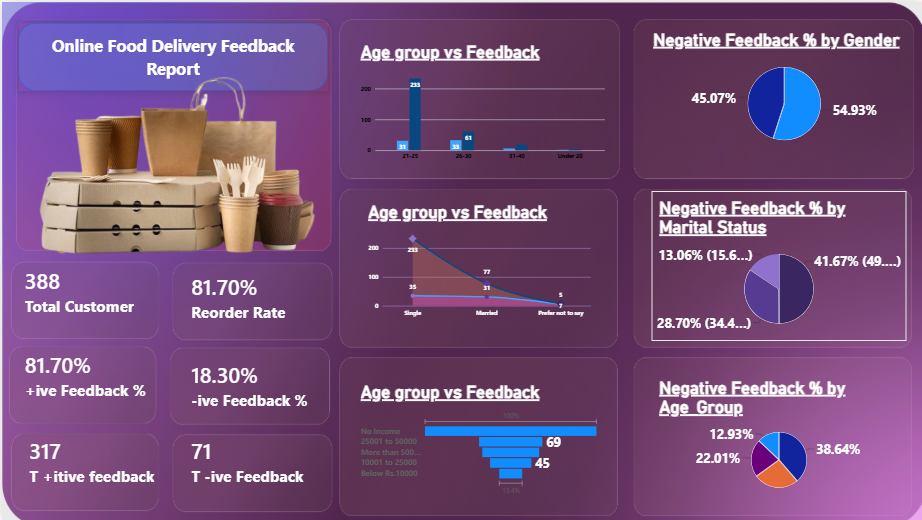

Layout of this report page (visuals, bound fields, positions):
{"tool":"powerbi","page":{"name":"Page 1","canvas":[1920,1080],"ordinal":0},"visuals":[{"type":"clusteredColumnChart","title":"Age group vs Feedback ","fields":{"Category":["corect online food delivery dataset.Age_Group"],"Series":["corect online food delivery dataset.Feedback"],"Y":["CountNonNull(corect online food delivery dataset.Age)"]},"box":[0,731.4,658.6,348.6],"z":0},{"type":"clusteredColumnChart","title":"Age group vs Feedback ","fields":{"Category":["corect online food delivery dataset.Marital Status"],"Series":["corect online food delivery dataset.Feedback"],"Y":["CountNonNull(corect online food delivery dataset.Feedback)"]},"box":[0,365.7,658.6,348.6],"z":1000},{"type":"clusteredColumnChart","title":"Age group vs Feedback ","fields":{"Category":["corect online food delivery dataset.Monthly Income"],"Series":["corect online food delivery dataset.Feedback"],"Y":["CountNonNull(corect online food delivery dataset.Feedback)"]},"box":[682.9,731.4,658.6,348.6],"z":2000},{"type":"cardVisual","fields":{"Data":["corect online food delivery dataset.total customer"]},"box":[42.5,112.5,337.5,175],"z":2001},{"type":"cardVisual","fields":{"Data":["corect online food delivery dataset.total positive feedback"]},"box":[397.5,112.5,337.5,175],"z":2002},{"type":"cardVisual","fields":{"Data":["corect online food delivery dataset.total positive Negative"]},"box":[760,112.5,337.5,175],"z":2003},{"type":"cardVisual","fields":{"Data":["corect online food delivery dataset.Reorder Rate"]},"box":[1130,112.5,337.5,175],"z":2004}]}

Visuals, with their boxes in screenshot pixels (x1, y1, x2, y2), scaled from the page's 1920x1080 canvas onto the 922x520 screenshot:
"Age group vs Feedback " clusteredColumnChart: Rect(0, 352, 316, 519)
"Age group vs Feedback " clusteredColumnChart: Rect(0, 176, 316, 344)
"Age group vs Feedback " clusteredColumnChart: Rect(328, 352, 644, 519)
cardVisual - corect online food delivery dataset.total customer: Rect(20, 54, 182, 138)
cardVisual - corect online food delivery dataset.total positive feedback: Rect(191, 54, 353, 138)
cardVisual - corect online food delivery dataset.total positive Negative: Rect(365, 54, 527, 138)
cardVisual - corect online food delivery dataset.Reorder Rate: Rect(543, 54, 705, 138)
